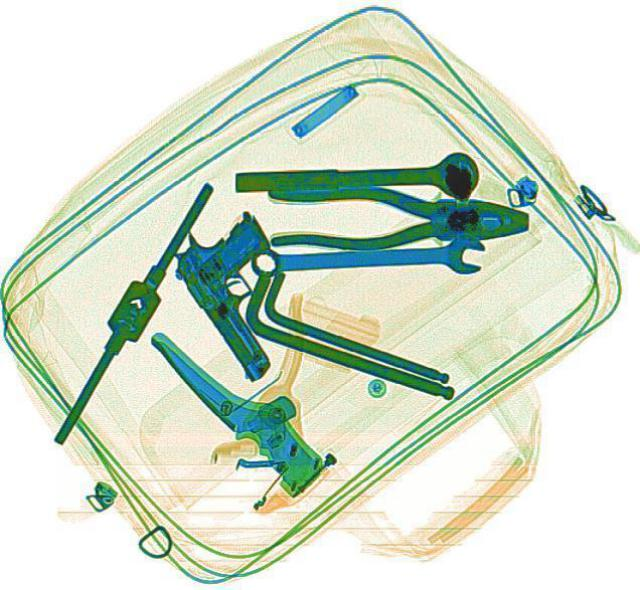Gun: (152, 199, 340, 379)
Pliers: (262, 180, 528, 251)
Wrench: (248, 231, 487, 281)
